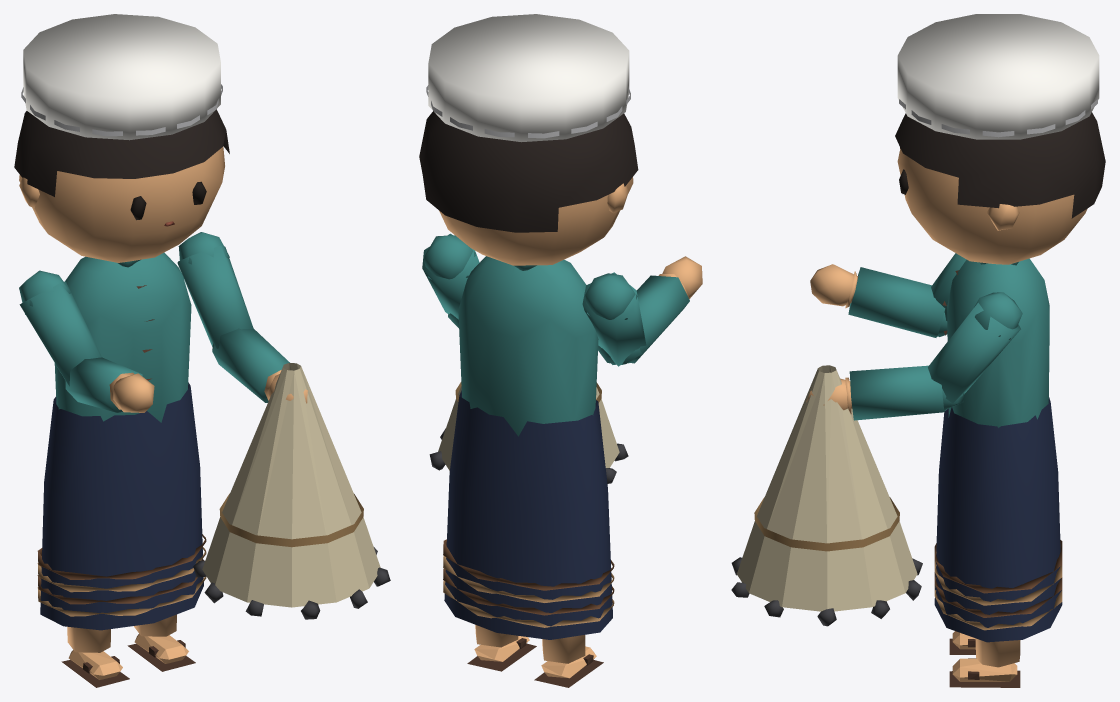
File: south_net_fisher.glb
3 views of the same model, side by side, from view 1: azimuth 30°, elevation 25°; view 2: azimuth 150°, elevation 25°; view 3: azimuth 270°, elevation 25° (orthographic).
Parts seen in each view (by area): view 1: body, head, prop_cast_net, arm_L, arm_R, forearm_R, forearm_L, shin_R, shin_L; view 2: body, head, arm_R, forearm_R, arm_L, shin_R, prop_cast_net, shin_L; view 3: head, body, prop_cast_net, forearm_R, arm_L, forearm_L, shin_L, arm_R.
Boxes of the visible parts, x1,y1,x2,y2 form: body: [37, 252, 206, 630]; head: [14, 14, 229, 262]; prop_cast_net: [193, 363, 390, 619]; arm_L: [177, 232, 253, 349]; arm_R: [19, 270, 101, 386]; forearm_R: [65, 357, 154, 412]; forearm_L: [212, 328, 307, 403]; shin_R: [61, 626, 129, 687]; shin_L: [127, 614, 195, 671]; body: [443, 256, 614, 639]; head: [419, 14, 638, 265]; arm_R: [582, 272, 646, 366]; forearm_R: [599, 256, 702, 364]; arm_L: [422, 233, 479, 327]; shin_R: [534, 635, 603, 687]; prop_cast_net: [429, 382, 628, 483]; shin_L: [467, 625, 536, 671]; head: [895, 14, 1105, 264]; body: [934, 258, 1062, 642]; prop_cast_net: [731, 365, 922, 626]; forearm_R: [810, 264, 946, 337]; arm_L: [928, 292, 1022, 408]; forearm_L: [806, 365, 964, 420]; shin_L: [949, 638, 1020, 687]; arm_R: [931, 253, 966, 336].
Size of the model in its own units: 0.7024 by 1.48 by 0.8282.
